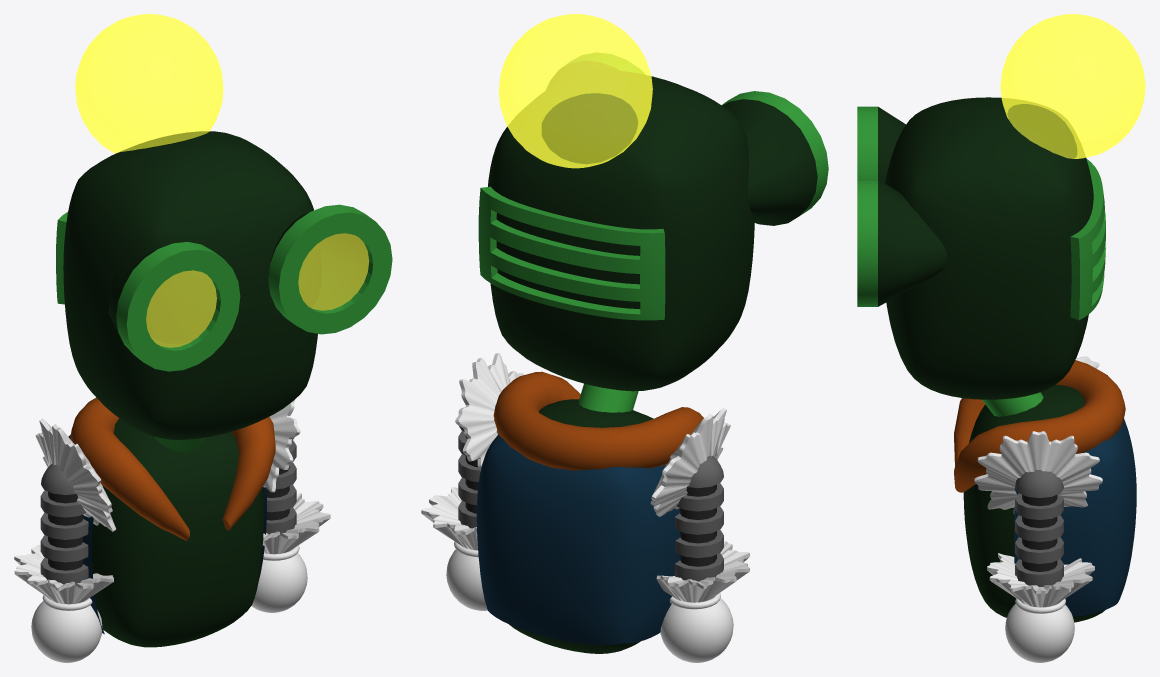
The model's file is Chibi.FBX.
3 views of the same model, side by side, from view 1: azimuth 30°, elevation 25°; view 2: azimuth 150°, elevation 25°; view 3: azimuth 270°, elevation 25° (orthographic). The views are drawn at different scales.
Parts seen in each view (by area): view 1: Box001, Box002, ojos, Sphere001, Torus001, RingWave001, Capsule002, Cone001, Sphere003, Sphere002, RingWave003, RingWave002 (+3 smaller); view 2: Box001, chaqueta, Sphere001, placa, Torus001, Cone001, RingWave001, Capsule002, Sphere003, Box002, ojos, RingWave003 (+3 smaller); view 3: Box001, Sphere001, chaqueta, Torus001, Cone001, Box002, RingWave001, Capsule001, ojos, placa, Sphere002, RingWave002.
Part boxes in pixels (x1=…): Box001: x1=63, y1=131, x2=321, y2=452; Box002: x1=92, y1=418, x2=263, y2=647; ojos: x1=116, y1=204, x2=392, y2=371; Sphere001: x1=75, y1=14, x2=223, y2=153; Torus001: x1=70, y1=397, x2=275, y2=540; RingWave001: x1=35, y1=400, x2=300, y2=531; Capsule002: x1=40, y1=464, x2=88, y2=584; Cone001: x1=108, y1=212, x2=368, y2=347; Sphere003: x1=31, y1=601, x2=102, y2=662; Sphere002: x1=251, y1=553, x2=307, y2=612; RingWave003: x1=14, y1=545, x2=113, y2=604; RingWave002: x1=262, y1=493, x2=330, y2=554; Box001: x1=488, y1=70, x2=754, y2=412; chaqueta: x1=476, y1=434, x2=680, y2=644; Sphere001: x1=498, y1=14, x2=652, y2=168; placa: x1=478, y1=186, x2=665, y2=320; Torus001: x1=493, y1=371, x2=703, y2=470; Cone001: x1=546, y1=61, x2=817, y2=225; RingWave001: x1=455, y1=353, x2=730, y2=516; Capsule002: x1=674, y1=455, x2=723, y2=581; Sphere003: x1=660, y1=598, x2=733, y2=662; Box002: x1=509, y1=399, x2=653, y2=653; ojos: x1=565, y1=53, x2=828, y2=215; RingWave003: x1=656, y1=541, x2=749, y2=602; Box001: x1=885, y1=97, x2=1093, y2=416; Sphere001: x1=1000, y1=14, x2=1145, y2=158; chaqueta: x1=1014, y1=418, x2=1136, y2=616; Torus001: x1=954, y1=360, x2=1125, y2=492; Cone001: x1=878, y1=107, x2=947, y2=306; Box002: x1=963, y1=385, x2=1104, y2=622; RingWave001: x1=974, y1=356, x2=1102, y2=513; Capsule001: x1=1015, y1=469, x2=1063, y2=586; ojos: x1=857, y1=106, x2=877, y2=306; placa: x1=1070, y1=159, x2=1105, y2=320; Sphere002: x1=1005, y1=603, x2=1074, y2=662; RingWave002: x1=987, y1=553, x2=1094, y2=607.
Bounding box in the file's own units: 14.51 × 28.02 × 12.37.
